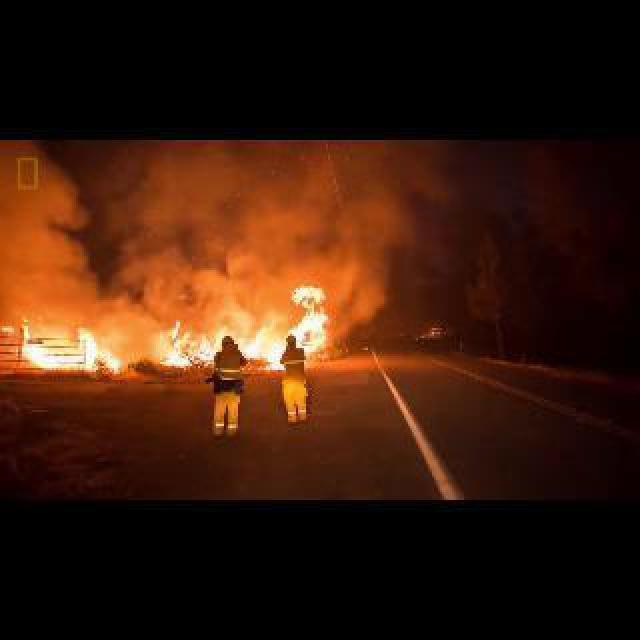fire: (162, 290, 330, 372)
